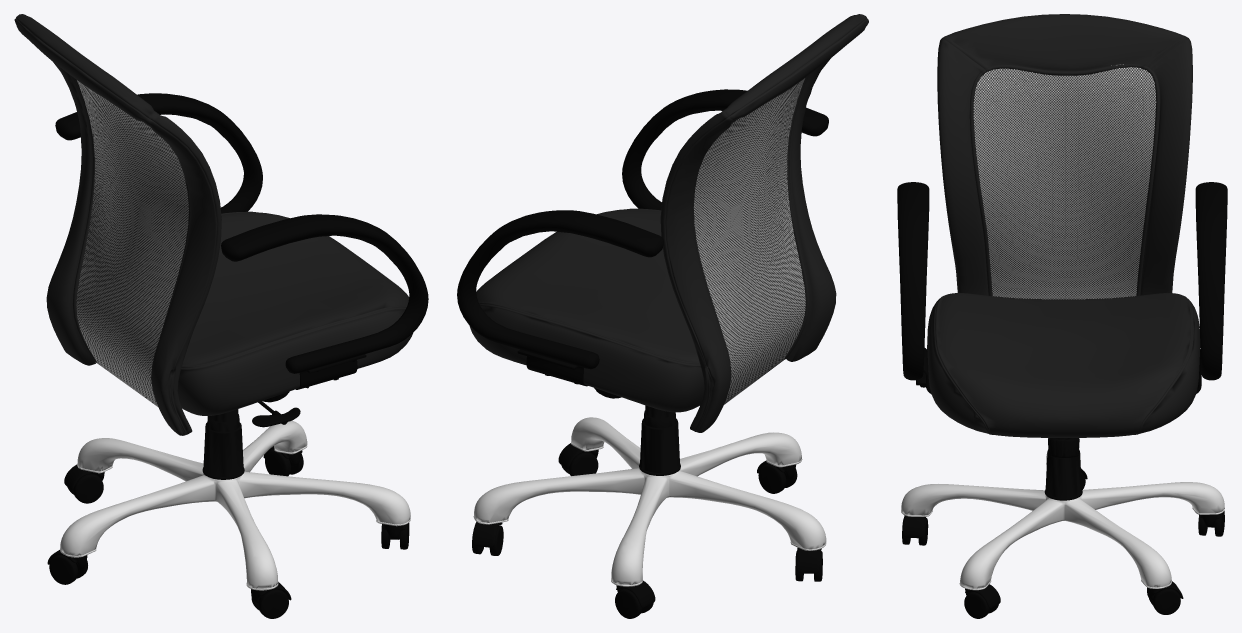
Rendered from office_chair.glb.
The picture shows the model from 3 angles, left to right: view 1: azimuth 30°, elevation 25°; view 2: azimuth 150°, elevation 25°; view 3: azimuth 270°, elevation 25°; orthographic projection. The views are drawn at different scales.
Visible parts, largest first — view 1: Box01_Lether_0, Box02_Chairback_0, Rectangle02_Chrome_0, Line04_Matteplastic_0, Cylinder01_Matteplastic_0, Rectangle11_BlackMetal_0; view 2: Box01_Lether_0, Box02_Chairback_0, Rectangle02_Chrome_0, Line04_Matteplastic_0, Cylinder01_Matteplastic_0, Rectangle11_BlackMetal_0; view 3: Box01_Lether_0, Box02_Chairback_0, Rectangle02_Chrome_0, Line04_Matteplastic_0, Cylinder01_Matteplastic_0.
Part boxes in pixels (x1,y1,x2,y2): Box01_Lether_0: (14,14,412,435); Box02_Chairback_0: (76,80,188,406); Rectangle02_Chrome_0: (60,420,410,590); Line04_Matteplastic_0: (55,93,428,373); Cylinder01_Matteplastic_0: (47,391,409,618); Rectangle11_BlackMetal_0: (258,354,366,413); Box01_Lether_0: (469,14,868,432); Box02_Chairback_0: (693,78,805,404); Rectangle02_Chrome_0: (473,417,826,586); Line04_Matteplastic_0: (457,89,828,369); Cylinder01_Matteplastic_0: (472,388,822,618); Rectangle11_BlackMetal_0: (517,349,587,386); Box01_Lether_0: (927,14,1200,437); Box02_Chairback_0: (973,64,1156,299); Rectangle02_Chrome_0: (901,453,1224,590); Line04_Matteplastic_0: (897,182,1227,380); Cylinder01_Matteplastic_0: (902,372,1224,618).
Size of the model in its own units: 65.24 by 102 by 63.68.
5 materials, 1 textured.
